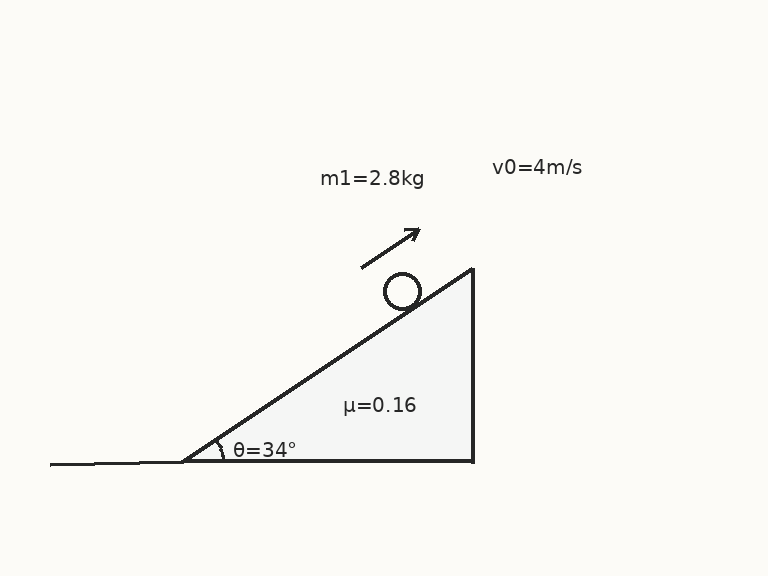ball: (381, 270, 423, 312)
ramp: (181, 265, 474, 464)
